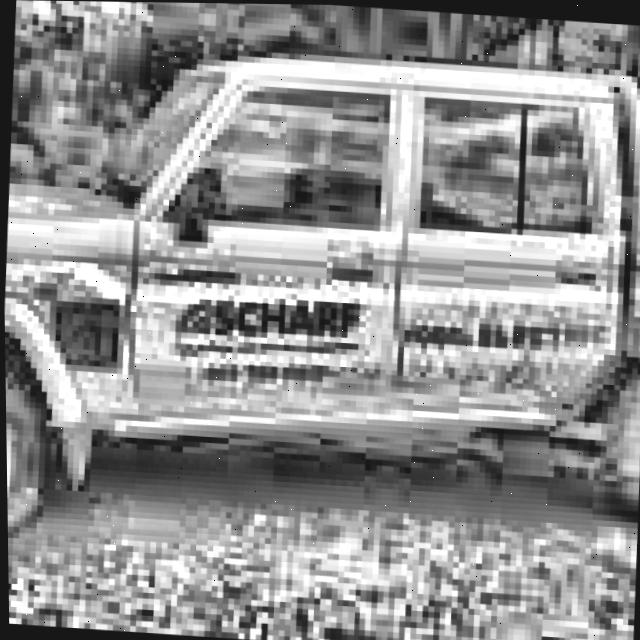light_vehicle: (0, 0, 640, 629)
